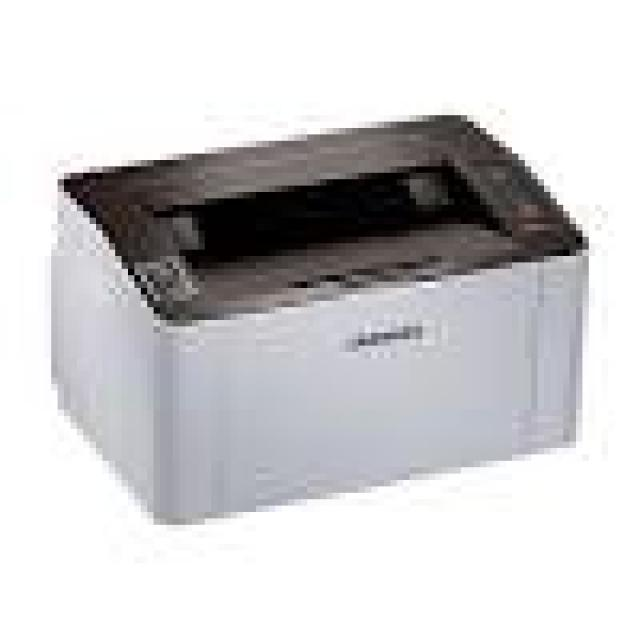printer: (31, 100, 607, 539)
